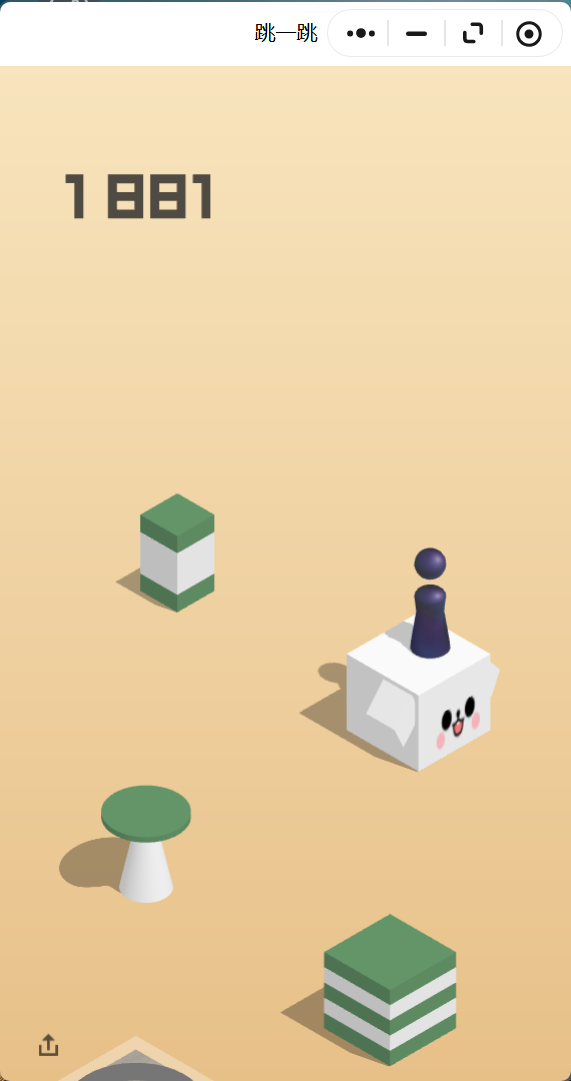piece: (414, 547, 446, 654)
target: (140, 492, 214, 535)
